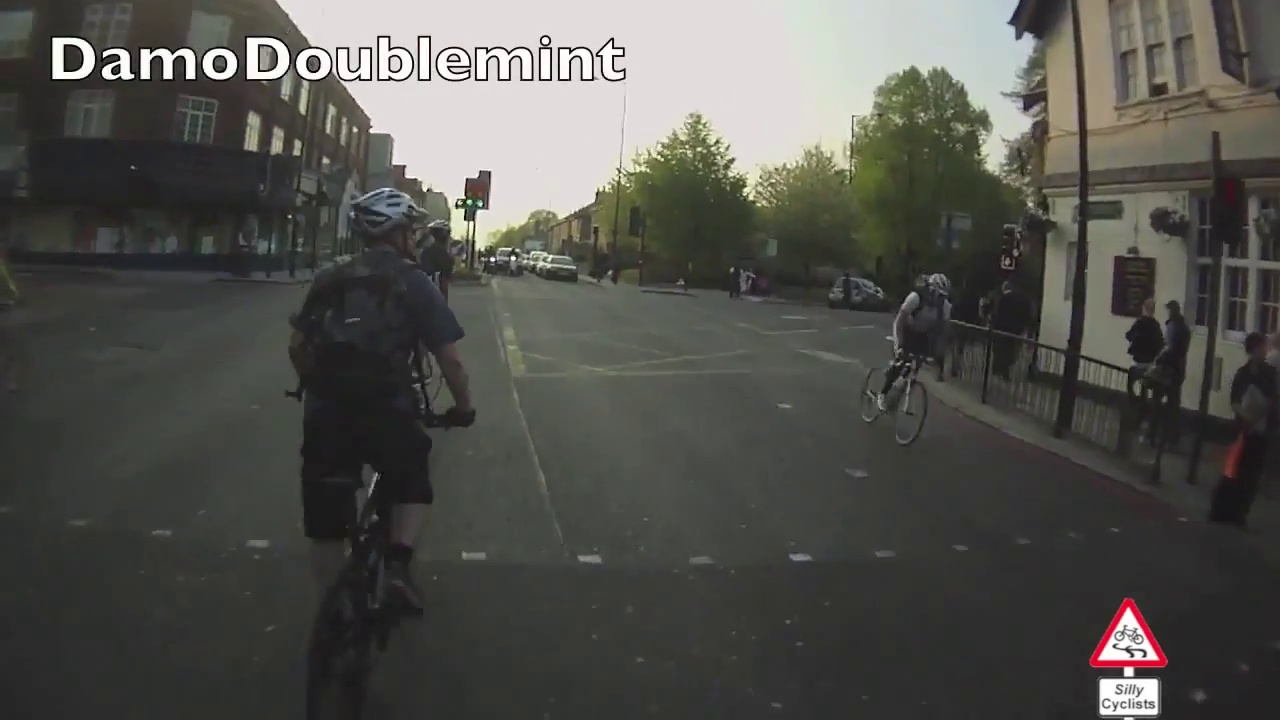cyclist_back: (285, 183, 478, 642)
cyclist_front: (855, 255, 957, 460)
